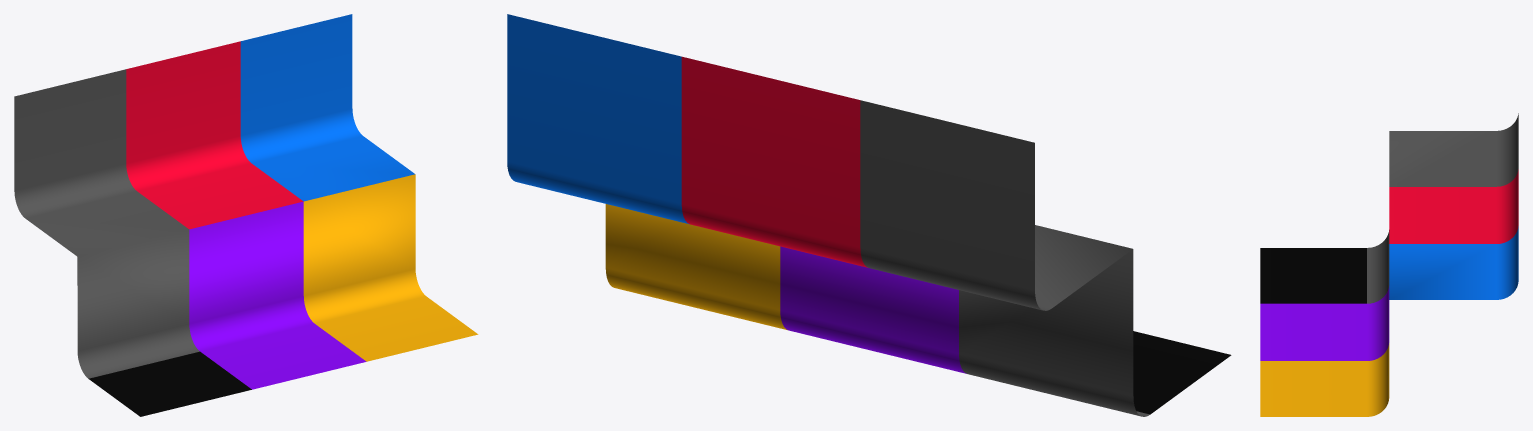
Rendered from stage.glb.
3 renders of one model, left to right at view 1: azimuth 30°, elevation 25°; view 2: azimuth 150°, elevation 25°; view 3: azimuth 270°, elevation 25°, orthographic. The views are drawn at different scales.
Visible parts, largest first — view 1: Plane.002; view 2: Plane.002; view 3: Plane.002.
Part boxes in pixels (<box>): Plane.002: <box>14,14,478,416</box>; Plane.002: <box>507,14,1231,416</box>; Plane.002: <box>1260,113,1518,416</box>.
Size of the model in its own units: 6.2 by 4 by 4.
